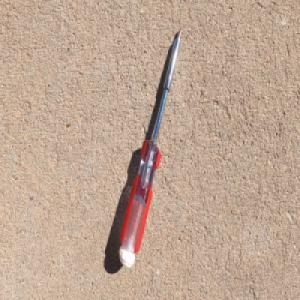Screwdriver: (118, 24, 184, 269)
